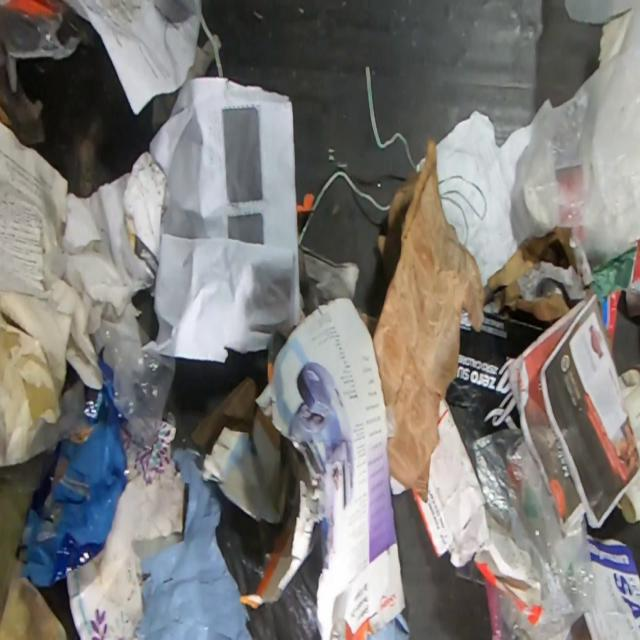cardboard: (373, 136, 485, 502), (0, 477, 33, 627)
rigid_plastic: (0, 2, 100, 145)
soft_plastic: (134, 452, 412, 638), (518, 1, 640, 277), (10, 358, 129, 590), (468, 426, 591, 638), (100, 314, 180, 448)
